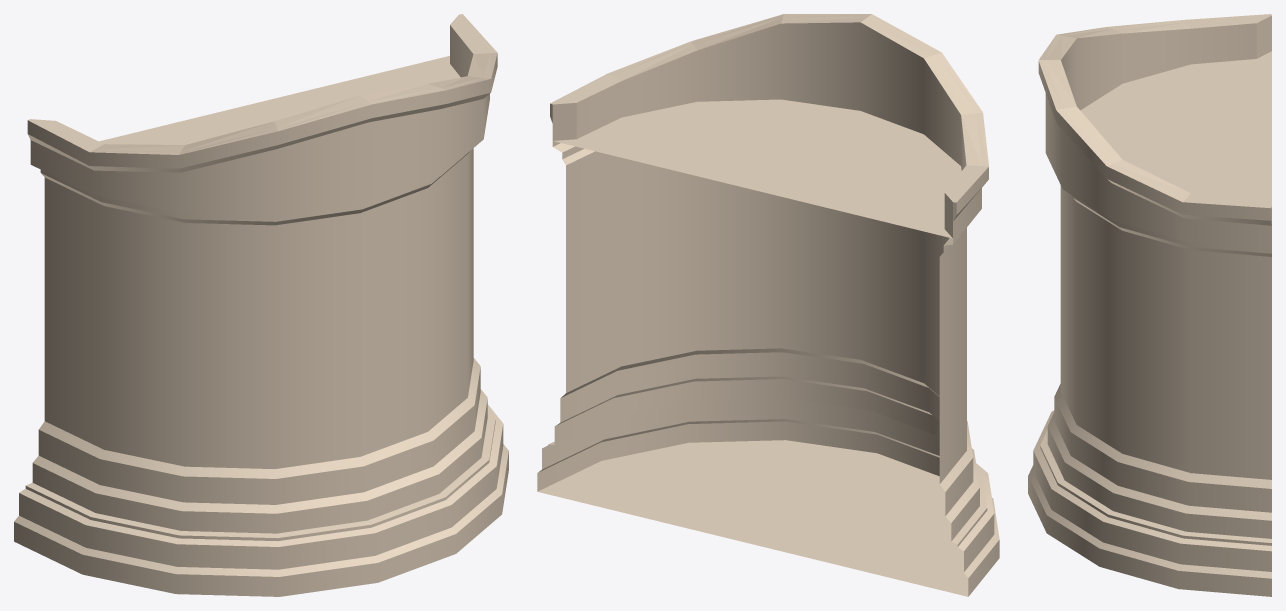
File: BC_ArchWall_A.fbx
3 views of the same model, side by side, from view 1: azimuth 30°, elevation 25°; view 2: azimuth 150°, elevation 25°; view 3: azimuth 270°, elevation 25° (orthographic). The views are drawn at different scales.
Visible parts, largest first — view 1: BC_ArchWall_A; view 2: BC_ArchWall_A; view 3: BC_ArchWall_A.
Boxes of the visible parts, x1,y1,x2,y2 form: BC_ArchWall_A: (14,14,508,596); BC_ArchWall_A: (537,14,999,596); BC_ArchWall_A: (1028,14,1271,596).
Size of the model in its own units: 1492 by 1465 by 746.
